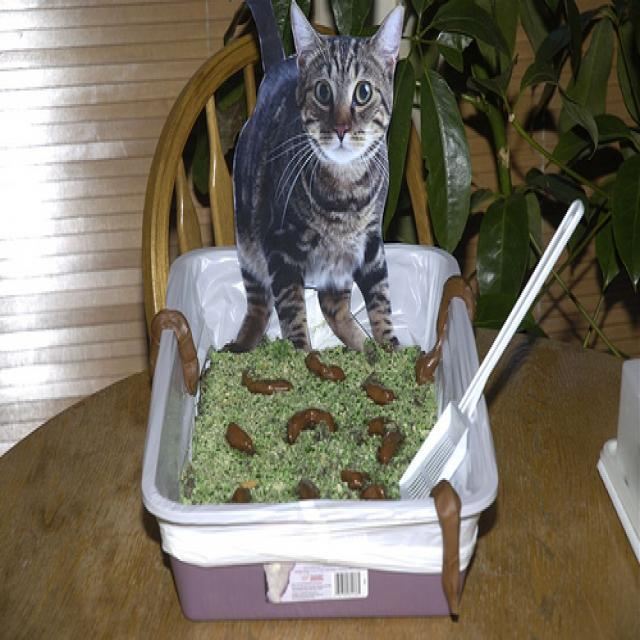chair: (143, 23, 440, 336)
dining table: (0, 334, 639, 633)
